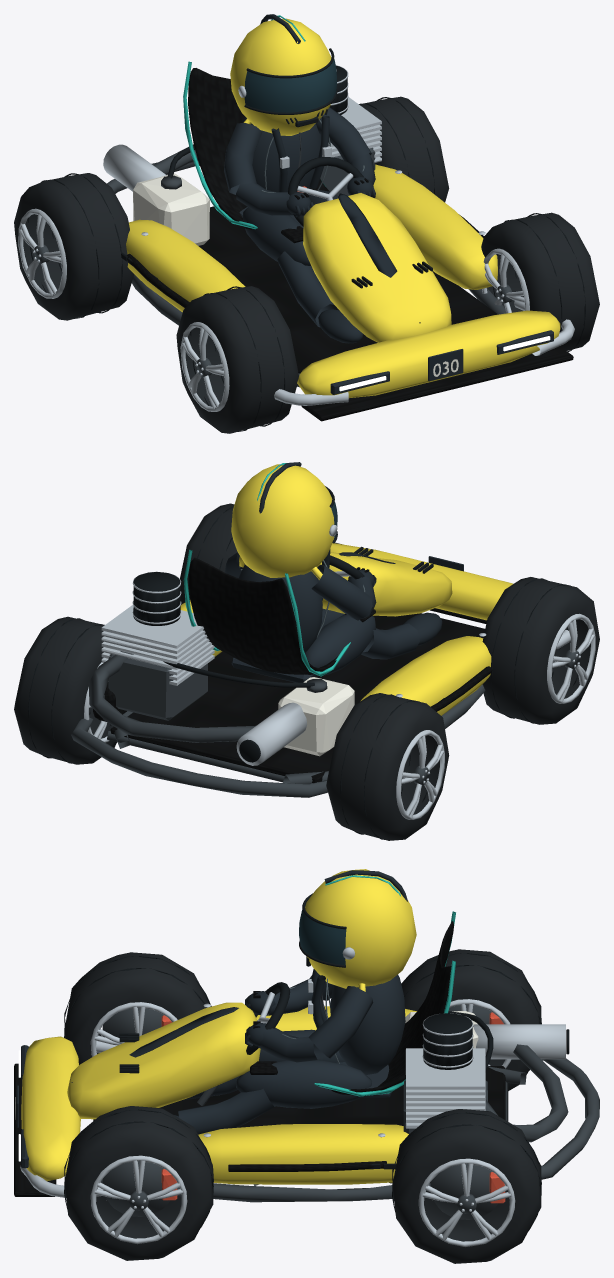
File: hero-kart-mobile.glb
3 renders of one model, top to bottom at view 1: azimuth 30°, elevation 25°; view 2: azimuth 150°, elevation 25°; view 3: azimuth 270°, elevation 25°, orthographic. The views are drawn at different scales.
Parts seen in each view (by area): view 1: mesh::V4_Enamel_Yellow, mesh::V4_Carbon_Composite, mesh::V4_Slick_Rubber, mesh::V4_Slick_Rubber.002, mesh::V4_Technical_Fabric, mesh::V4_Slick_Rubber.001, mesh::V4_Graphite_Enamel, mesh::V4_Machined_Alloy, mesh::V4_Slick_Rubber.003, mesh::V4_Ivory, mesh::V4_Smoked_Visor, mesh::V4_Tread_Grooves (+6 smaller); view 2: mesh::V4_Carbon_Composite, mesh::V4_Enamel_Yellow, mesh::V4_Blackened_Steel, mesh::V4_Slick_Rubber.002, mesh::V4_Slick_Rubber, mesh::V4_Slick_Rubber.003, mesh::V4_Technical_Fabric, mesh::V4_Machined_Alloy, mesh::V4_Tread_Grooves, mesh::V4_Ivory, mesh::V4_Slick_Rubber.001, mesh::V4_Machined_Alloy.001 (+5 smaller); view 3: mesh::V4_Enamel_Yellow, mesh::V4_Technical_Fabric, mesh::V4_Slick_Rubber.003, mesh::V4_Slick_Rubber.001, mesh::V4_Carbon_Composite, mesh::V4_Machined_Alloy, mesh::V4_Blackened_Steel, mesh::V4_Slick_Rubber, mesh::V4_Slick_Rubber.002, mesh::V4_Tread_Grooves, mesh::V4_Graphite_Enamel, mesh::V4_Machined_Alloy.004 (+11 smaller).
Boxes of the visible parts, <box> form: mesh::V4_Enamel_Yellow: <box>126,18,560,397</box>; mesh::V4_Carbon_Composite: <box>126,68,573,421</box>; mesh::V4_Slick_Rubber: <box>176,286,298,433</box>; mesh::V4_Slick_Rubber.002: <box>14,173,133,320</box>; mesh::V4_Technical_Fabric: <box>224,107,375,327</box>; mesh::V4_Slick_Rubber.001: <box>481,212,599,350</box>; mesh::V4_Graphite_Enamel: <box>260,14,553,394</box>; mesh::V4_Machined_Alloy: <box>103,65,574,405</box>; mesh::V4_Slick_Rubber.003: <box>359,96,449,202</box>; mesh::V4_Ivory: <box>133,173,458,376</box>; mesh::V4_Smoked_Visor: <box>244,58,336,112</box>; mesh::V4_Tread_Grooves: <box>121,48,432,288</box>; mesh::V4_Carbon_Composite: <box>93,557,492,782</box>; mesh::V4_Enamel_Yellow: <box>180,464,513,715</box>; mesh::V4_Blackened_Steel: <box>71,613,485,797</box>; mesh::V4_Slick_Rubber.002: <box>326,693,449,840</box>; mesh::V4_Slick_Rubber: <box>482,577,599,724</box>; mesh::V4_Slick_Rubber.003: <box>14,616,116,764</box>; mesh::V4_Technical_Fabric: <box>225,552,419,682</box>; mesh::V4_Machined_Alloy: <box>101,524,570,765</box>; mesh::V4_Tread_Grooves: <box>133,486,444,762</box>; mesh::V4_Ivory: <box>278,677,354,756</box>; mesh::V4_Slick_Rubber.001: <box>180,503,241,604</box>; mesh::V4_Machined_Alloy.001: <box>547,613,595,703</box>; mesh::V4_Enamel_Yellow: <box>21,869,416,1184</box>; mesh::V4_Technical_Fabric: <box>178,974,405,1134</box>; mesh::V4_Slick_Rubber.003: <box>392,1109,541,1263</box>; mesh::V4_Slick_Rubber.001: <box>64,1106,213,1260</box>; mesh::V4_Carbon_Composite: <box>14,921,505,1196</box>; mesh::V4_Machined_Alloy: <box>20,947,565,1197</box>; mesh::V4_Blackened_Steel: <box>100,992,599,1202</box>; mesh::V4_Slick_Rubber: <box>64,952,211,1064</box>; mesh::V4_Slick_Rubber.002: <box>401,949,541,1090</box>; mesh::V4_Tread_Grooves: <box>119,893,569,1169</box>; mesh::V4_Graphite_Enamel: <box>16,870,407,1168</box>; mesh::V4_Machined_Alloy.004: <box>418,1158,515,1246</box>.
Size of the model in its own units: 2 by 1.42 by 2.48.
14 materials, 1 textured.
